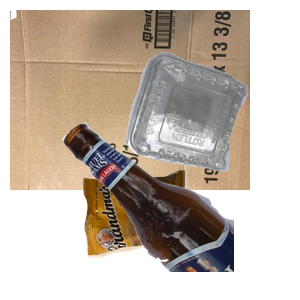cardboard: (10, 10, 250, 190)
glass: (60, 120, 300, 300)
plastic: (123, 50, 300, 214)
trash: (81, 168, 261, 300)
